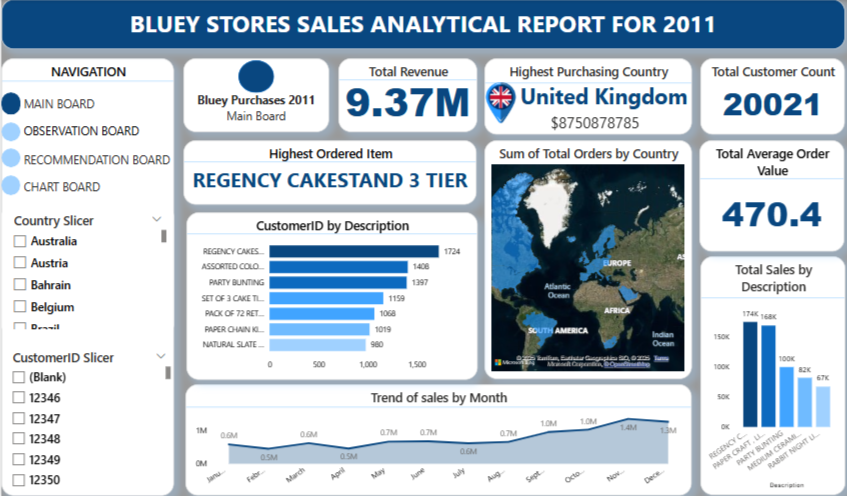

Layout of this report page (visuals, bound fields, positions):
{"tool":"powerbi","page":{"name":"Main Board","canvas":[1356,800],"ordinal":0},"visuals":[{"type":"textbox","title":"NAVIGATION","box":[0,93.8,276.3,700.2],"z":0},{"type":"shape","box":[0,149.5,30.6,36],"z":1000},{"type":"shape","box":[0,196.4,30.6,30.6],"z":2000},{"type":"shape","box":[0,237.8,30.6,30.6],"z":3000},{"type":"shape","box":[0,281.1,30.6,32.4],"z":4000},{"type":"textbox","box":[30.6,192.8,205.4,45],"z":5000},{"type":"textbox","box":[30.6,237.8,261.3,48.6],"z":6000},{"type":"textbox","box":[30.6,281.1,169.4,46.8],"z":7000},{"type":"textbox","box":[30.6,149.5,205.4,48.6],"z":8000},{"type":"textbox","box":[0,0,1350,79.9],"z":9000},{"type":"textbox","box":[291.9,93.8,232.8,118.1],"z":10000},{"type":"shape","box":[378.8,97.3,57.3,52.1],"z":11000},{"type":"textbox","title":"Total Revenue","box":[538.6,93.8,222.4,118.1],"z":12000},{"type":"textbox","title":"Highest Purchasing Country ","box":[773.2,93.8,331.9,121.6],"z":13000},{"type":"card","fields":{"Values":["data.Total Sales"]},"box":[538.6,109.5,222.4,102.5],"z":14000},{"type":"card","fields":{"Values":["Min(data.Country)"]},"box":[821.8,100.8,283.2,107.7],"z":15000},{"type":"image","box":[761,128.6,74.7,74.7],"z":16000},{"type":"textbox","title":"Total Customer Count","box":[1118.9,93.8,231.1,121.6],"z":17000},{"type":"card","title":"Highest Ordered Item","fields":{"Values":["Min(data.Description)"]},"box":[291.9,225.9,469.1,102.5],"z":18000},{"type":"filledMap","fields":{"Category":["data.Country"]},"box":[773.2,225.9,331.9,382.2],"z":19000},{"type":"lineChart","title":"Trend of sales by Month","fields":{"Category":["data.InvoiceDate.Variation.Date Hierarchy.Month"],"Y":["data.Total Sales"]},"box":[294.9,616,809.8,178],"z":20000},{"type":"slicer","fields":{"Values":["data.Country"]},"box":[0,328.4,276.3,212],"z":21000},{"type":"slicer","fields":{"Values":["data.CustomerID"]},"box":[5.2,554.2,271,239.8],"z":22000},{"type":"textbox","box":[1148.5,128.6,185.9,83.4],"z":23000},{"type":"textbox","box":[873.9,175.5,180.7,45.2],"z":23001},{"type":"clusteredBarChart","title":"CustomerID by Description","fields":{"Category":["data.Description"],"Y":["CountNonNull(data.CustomerID)"]},"box":[295.4,340.5,465.6,267.6],"z":23002},{"type":"clusteredColumnChart","fields":{"Category":["data.Description"],"Y":["data.Total Sales"]},"box":[1118.7,411.9,232.1,382.2],"z":23003},{"type":"card","title":"Total Average Order Value","fields":{"Values":["Sum(data.Average Order value)"]},"box":[1116.9,225.1,232.1,178],"z":23004}]}

Visuals, with their boxes in screenshot pixels (x1, y1, x2, y2), scaled from the page's 1356x800 canvas onto the 847x496 screenshot:
"NAVIGATION" textbox: <region>0, 58, 173, 492</region>
shape: <region>0, 93, 19, 115</region>
shape: <region>0, 122, 19, 141</region>
shape: <region>0, 147, 19, 166</region>
shape: <region>0, 174, 19, 194</region>
textbox: <region>19, 120, 147, 147</region>
textbox: <region>19, 147, 182, 178</region>
textbox: <region>19, 174, 125, 203</region>
textbox: <region>19, 93, 147, 123</region>
textbox: <region>0, 0, 843, 50</region>
textbox: <region>182, 58, 328, 131</region>
shape: <region>237, 60, 272, 93</region>
"Total Revenue" textbox: <region>336, 58, 475, 131</region>
"Highest Purchasing Country " textbox: <region>483, 58, 690, 134</region>
card - data.Total Sales: <region>336, 68, 475, 131</region>
card - Min(data.Country): <region>513, 62, 690, 129</region>
image: <region>475, 80, 522, 126</region>
"Total Customer Count" textbox: <region>699, 58, 843, 134</region>
"Highest Ordered Item" card: <region>182, 140, 475, 204</region>
filledMap - data.Country: <region>483, 140, 690, 377</region>
"Trend of sales by Month" lineChart: <region>184, 382, 690, 492</region>
slicer - data.Country: <region>0, 204, 173, 335</region>
slicer - data.CustomerID: <region>3, 344, 173, 492</region>
textbox: <region>717, 80, 834, 131</region>
textbox: <region>546, 109, 659, 137</region>
"CustomerID by Description" clusteredBarChart: <region>185, 211, 475, 377</region>
clusteredColumnChart - data.Description x data.Total Sales: <region>699, 255, 844, 492</region>
"Total Average Order Value" card: <region>698, 140, 843, 250</region>
